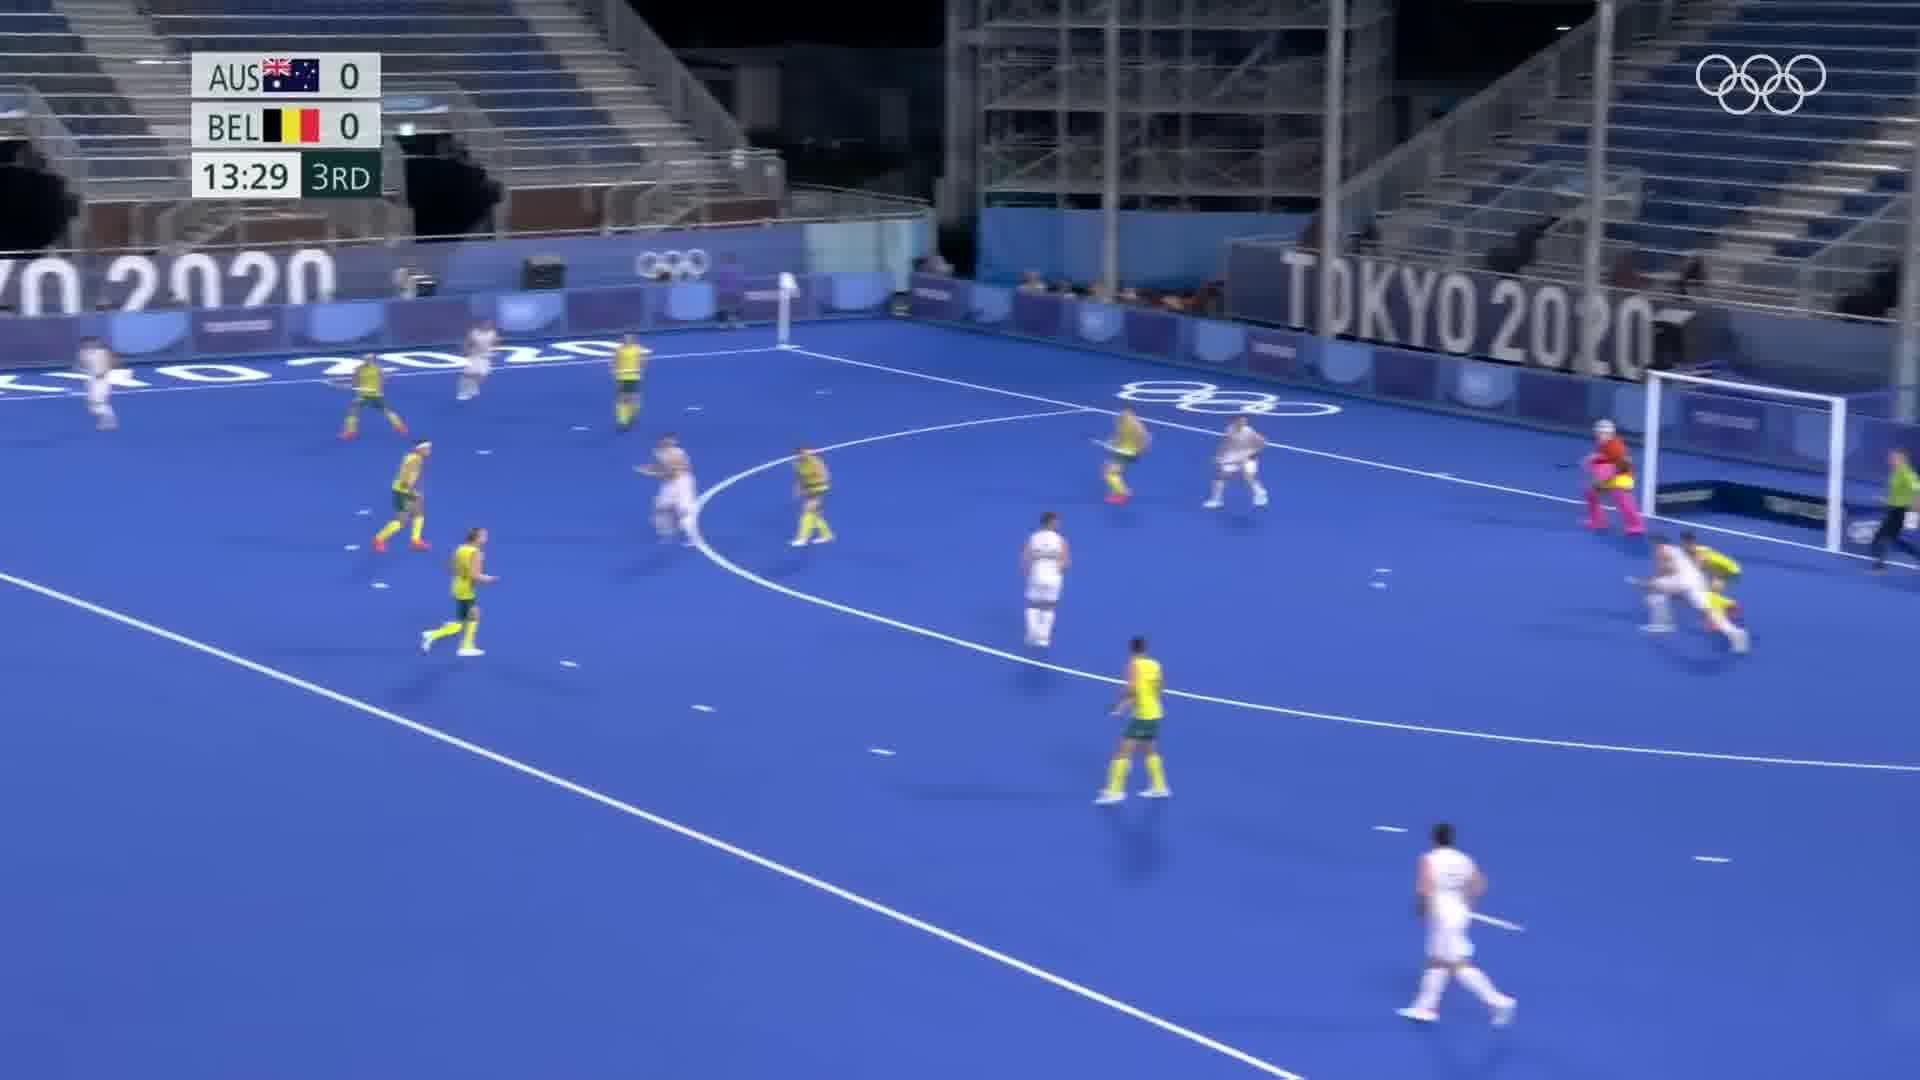ball: (1365, 580, 1387, 593)
